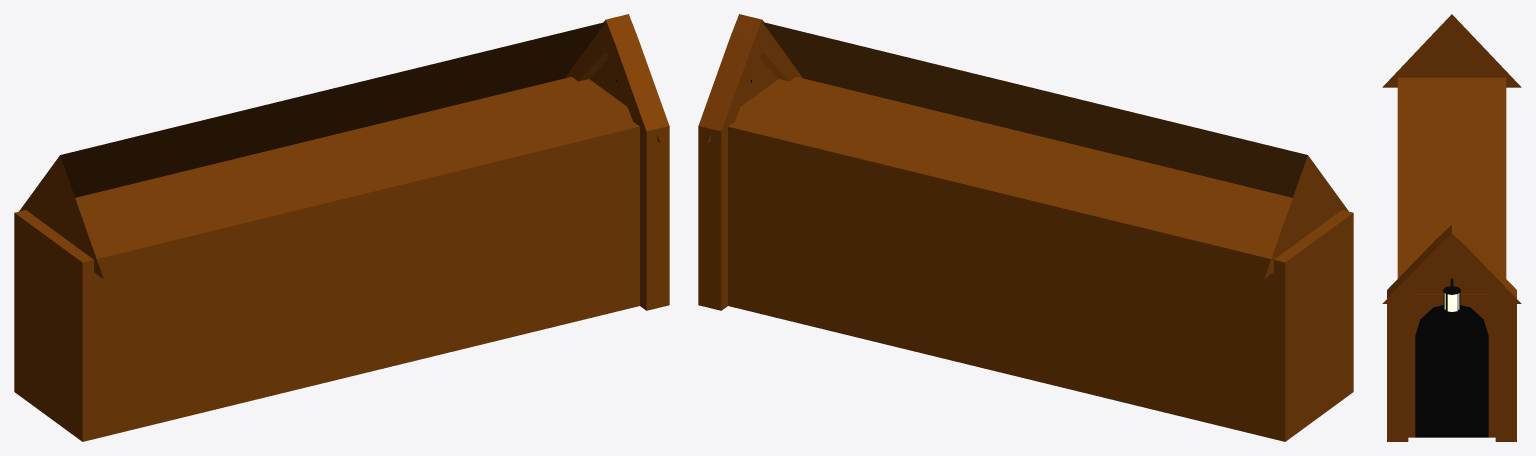
File: Mine.fbx
3 views of the same model, side by side, from view 1: azimuth 30°, elevation 25°; view 2: azimuth 150°, elevation 25°; view 3: azimuth 270°, elevation 25° (orthographic). The views are drawn at different scales.
Visible parts, largest first — view 1: Mine; view 2: Mine; view 3: Mine.
Part boxes in pixels (x1=…): Mine: x1=14, y1=14, x2=669, y2=441; Mine: x1=698, y1=14, x2=1353, y2=441; Mine: x1=1382, y1=14, x2=1521, y2=441.
Size of the model in its own units: 702 by 292 by 177.
